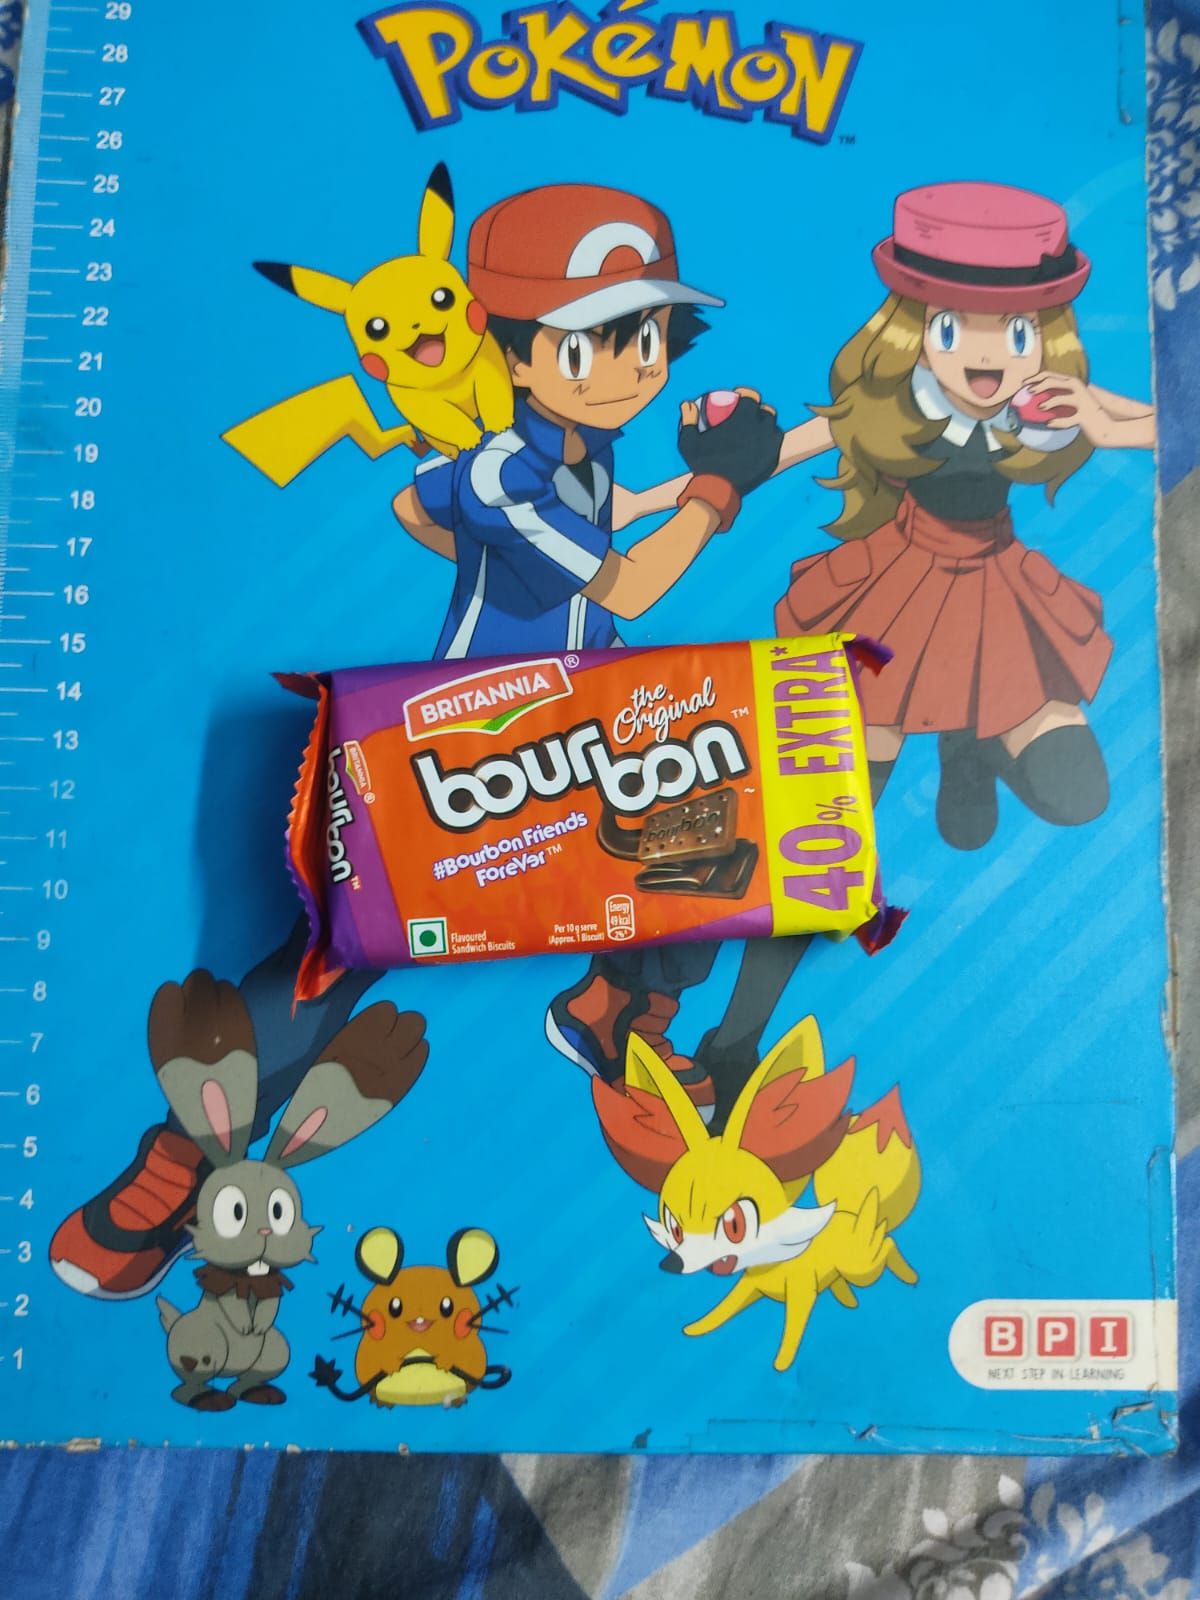010_Bourbon: (304, 632, 886, 960)
